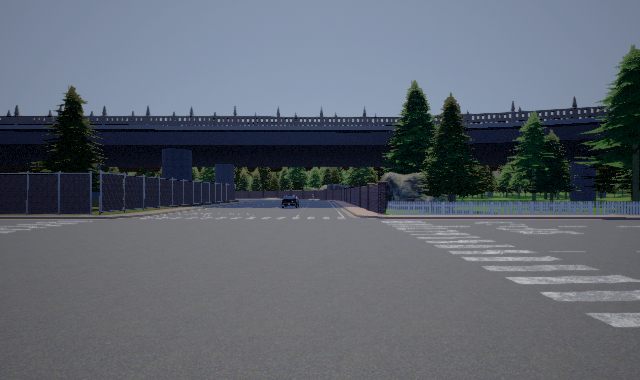vehicle: (281, 194, 301, 209)
